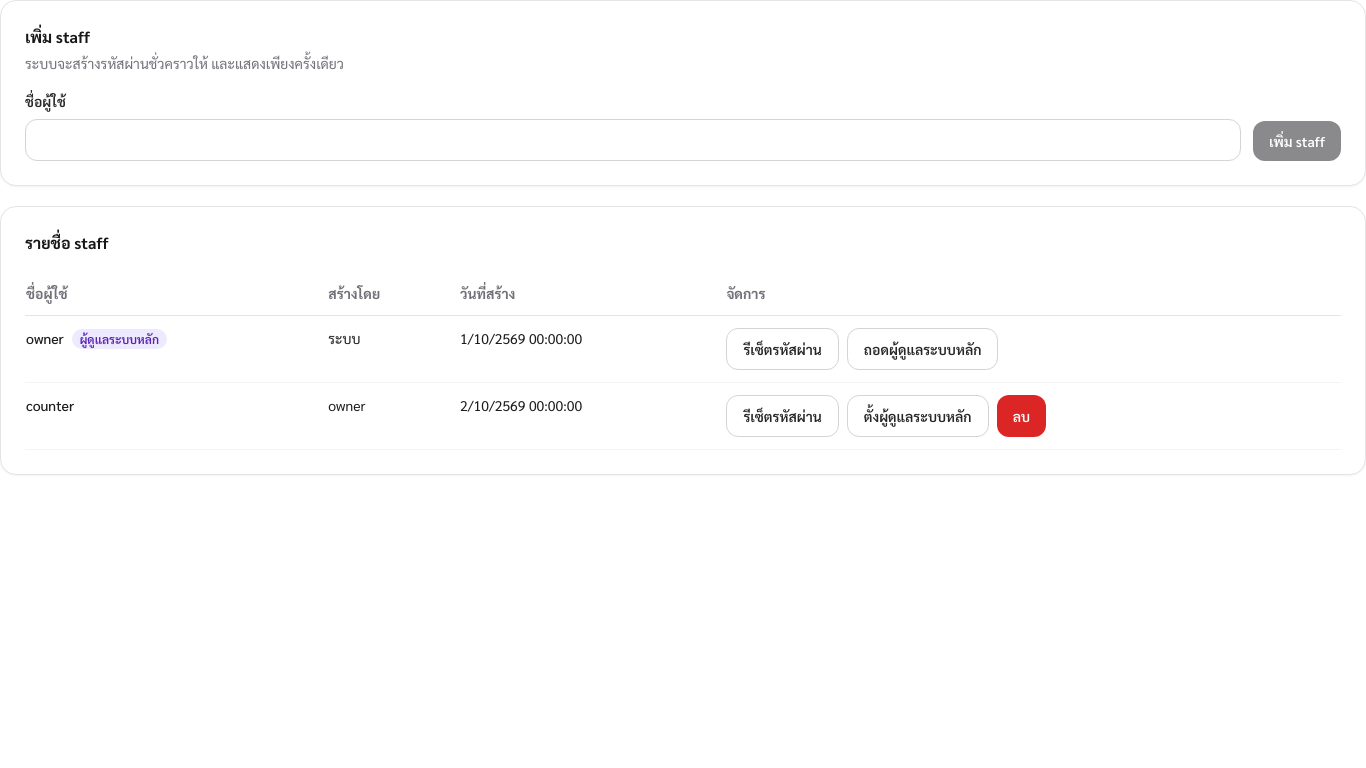
StaffWorkspace › asks for confirmation before deleting a staff member
Click the button "ลบ" at (1021, 416), box [997, 395, 1046, 437]
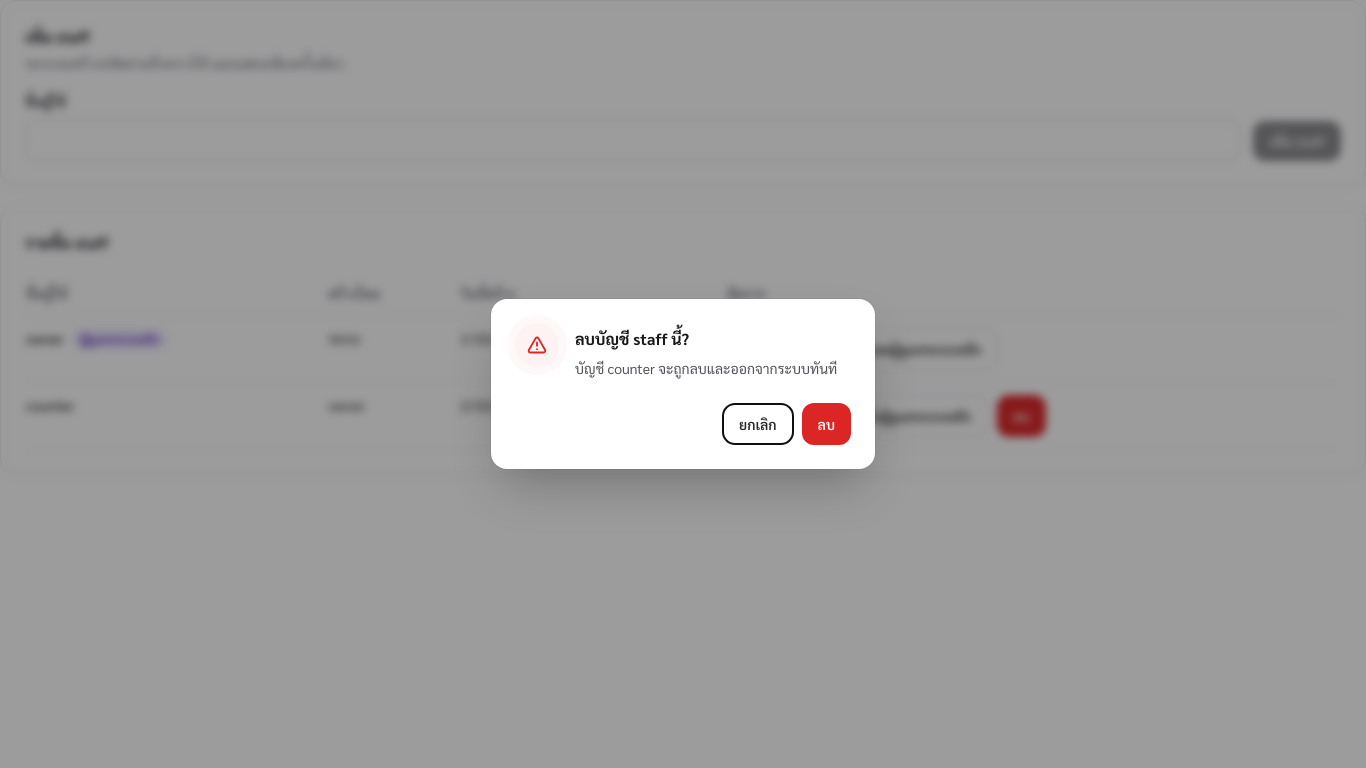
Expected: the text "ลบบัญชี staff นี้?" is shown, [575, 328, 689, 349]
